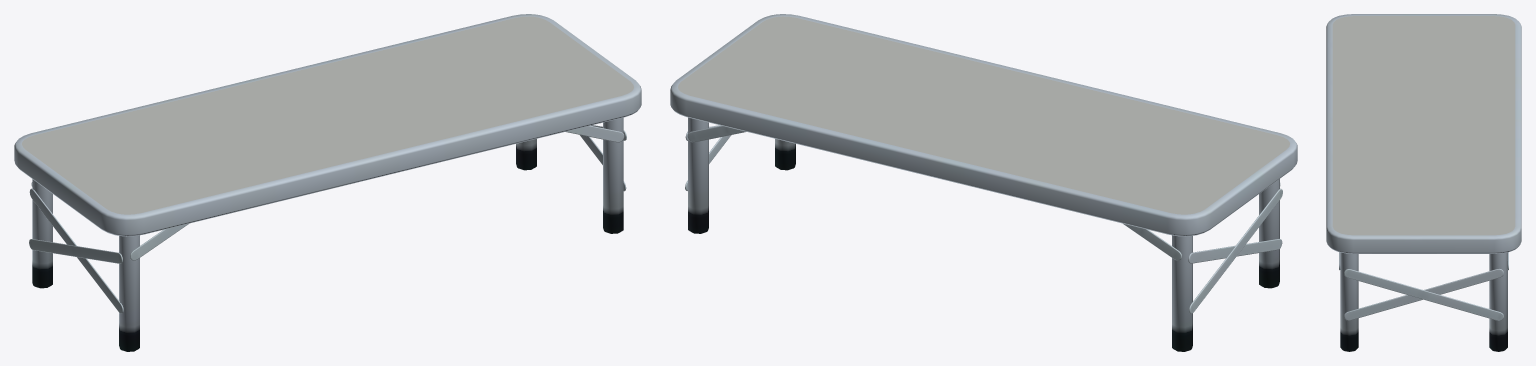
The picture shows the model from 3 angles, left to right: view 1: azimuth 30°, elevation 25°; view 2: azimuth 150°, elevation 25°; view 3: azimuth 270°, elevation 25°; orthographic projection. The views are drawn at different scales.
Size of the model in its own units: 17.03 by 4.3 by 6.26.
Materials: 2 (2 with a texture image).
